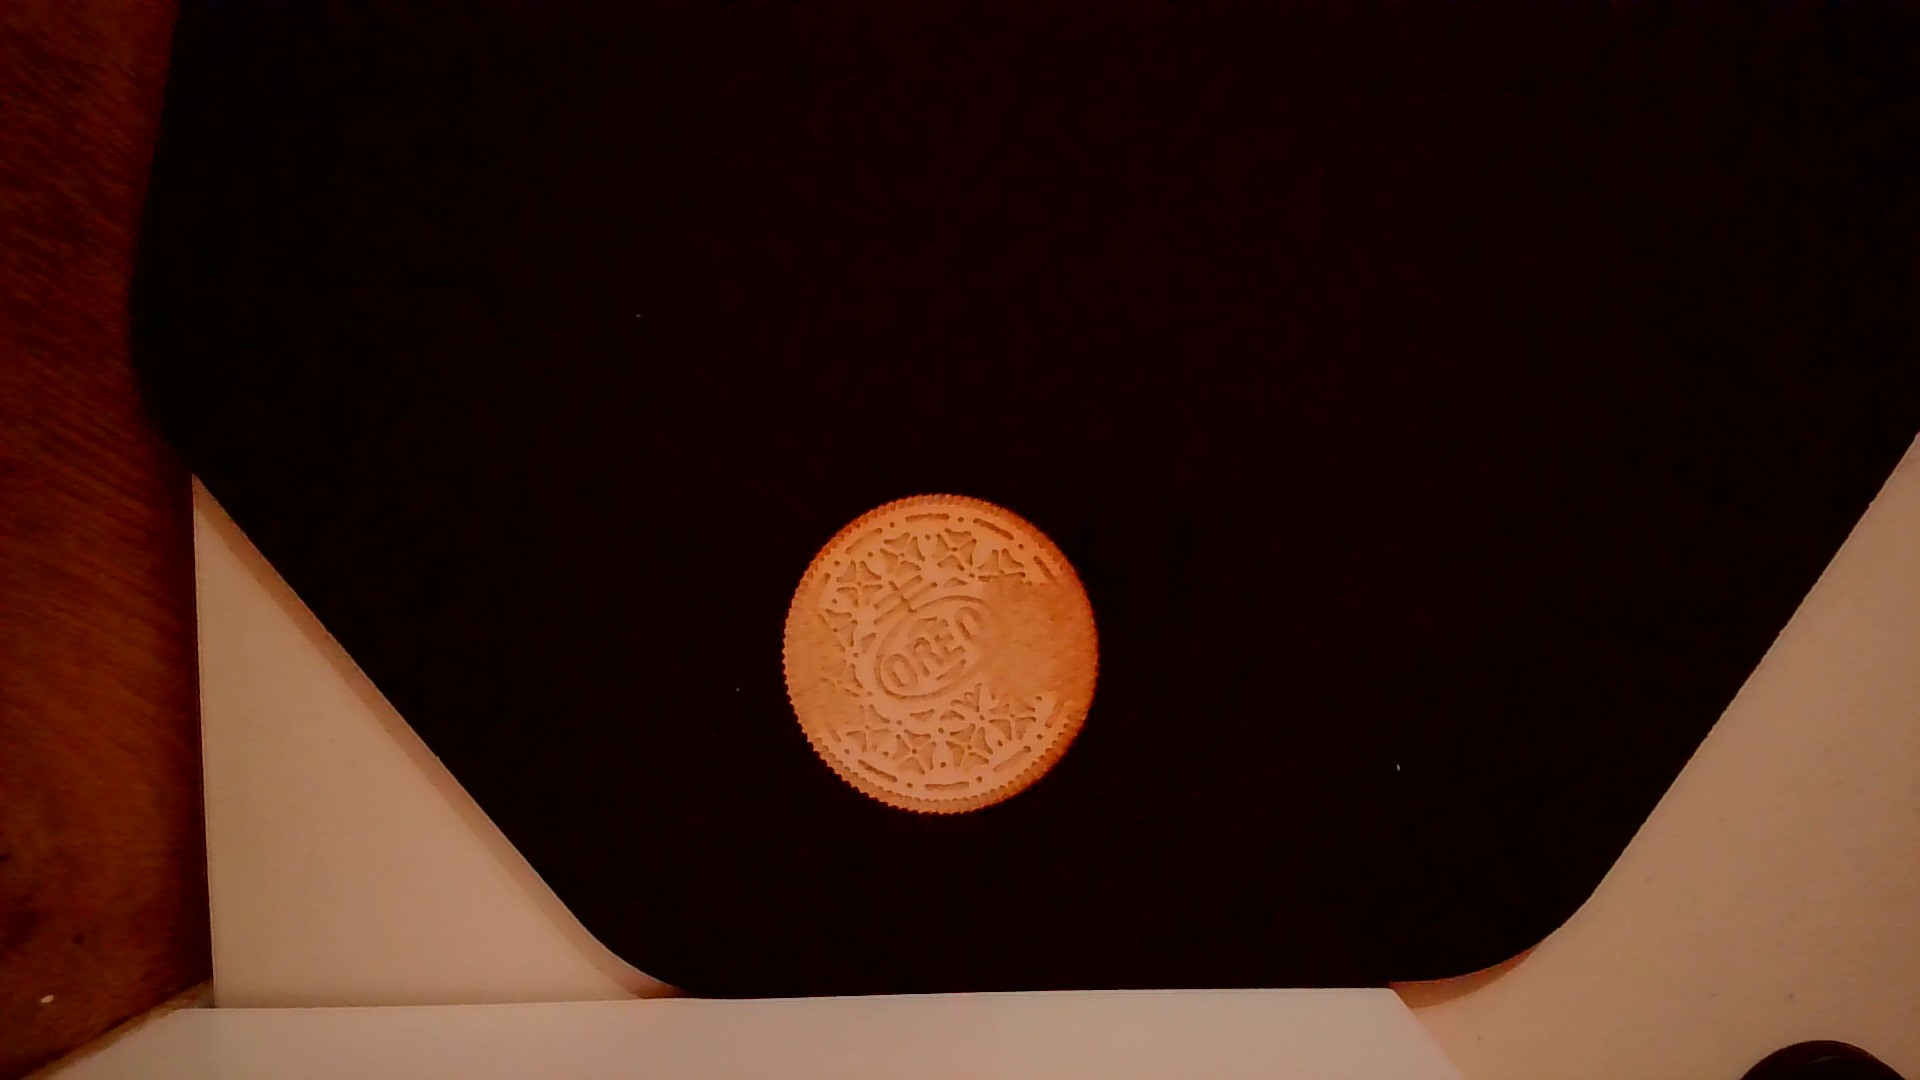Effacé: (986, 582, 1091, 723), (781, 608, 847, 737)
Oréo: (775, 483, 1105, 820)
